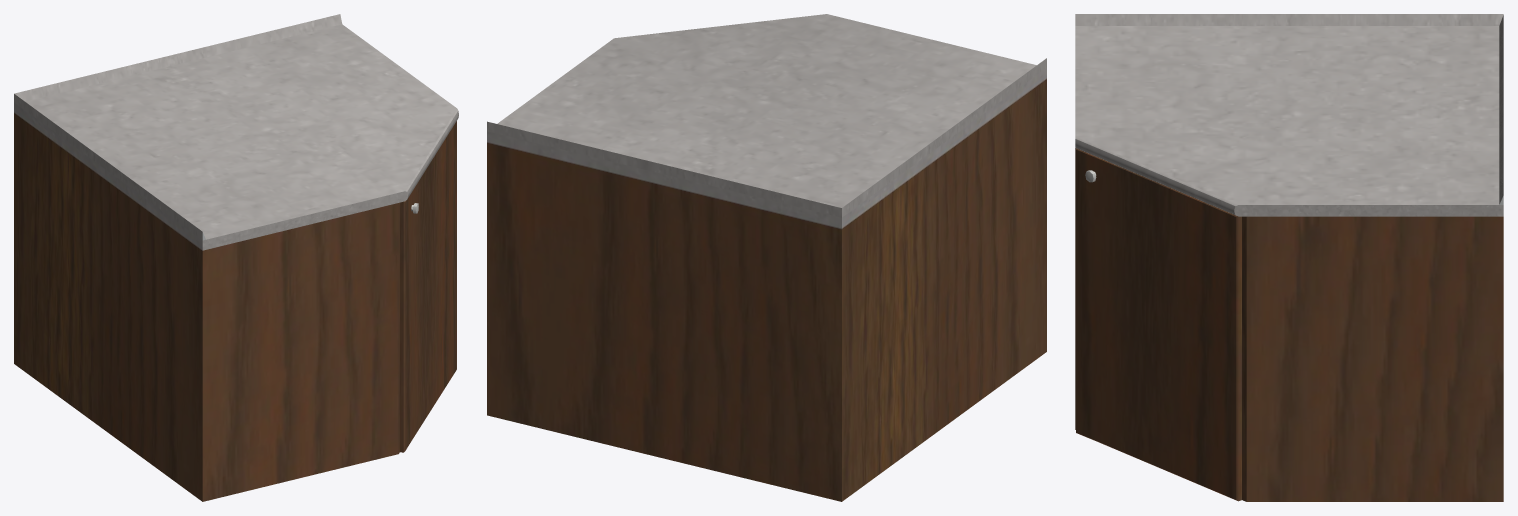
The model's file is virt_skapis2.glb.
3 renders of one model, left to right at view 1: azimuth 30°, elevation 25°; view 2: azimuth 150°, elevation 25°; view 3: azimuth 270°, elevation 25°, orthographic. The views are drawn at different scales.
Parts seen in each view (by area): view 1: KitchenCabinet90Degrees; view 2: KitchenCabinet90Degrees; view 3: KitchenCabinet90Degrees.
Boxes of the visible parts, bbox=[...] form: KitchenCabinet90Degrees: bbox=[14, 14, 458, 501]; KitchenCabinet90Degrees: bbox=[487, 14, 1046, 501]; KitchenCabinet90Degrees: bbox=[1075, 14, 1503, 501].
Bounding box in the file's own units: 1.09 × 0.8613 × 1.09.
Materials: 1 (1 with a texture image).
